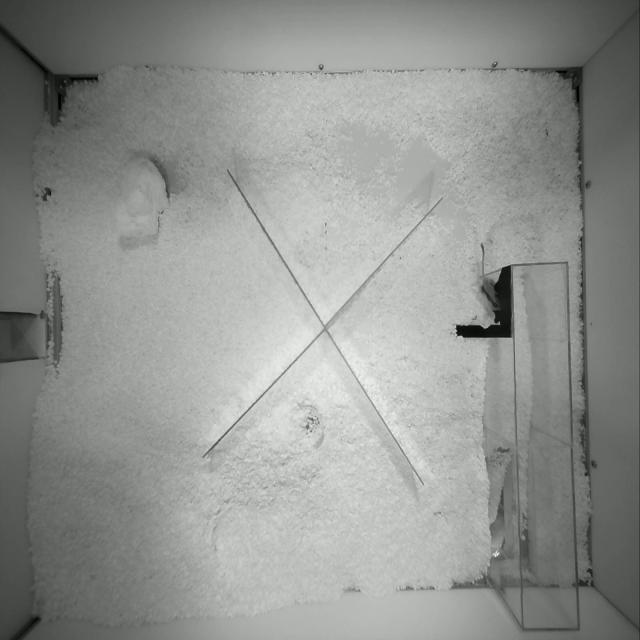pup_v_stripe: (481, 244, 499, 310)
